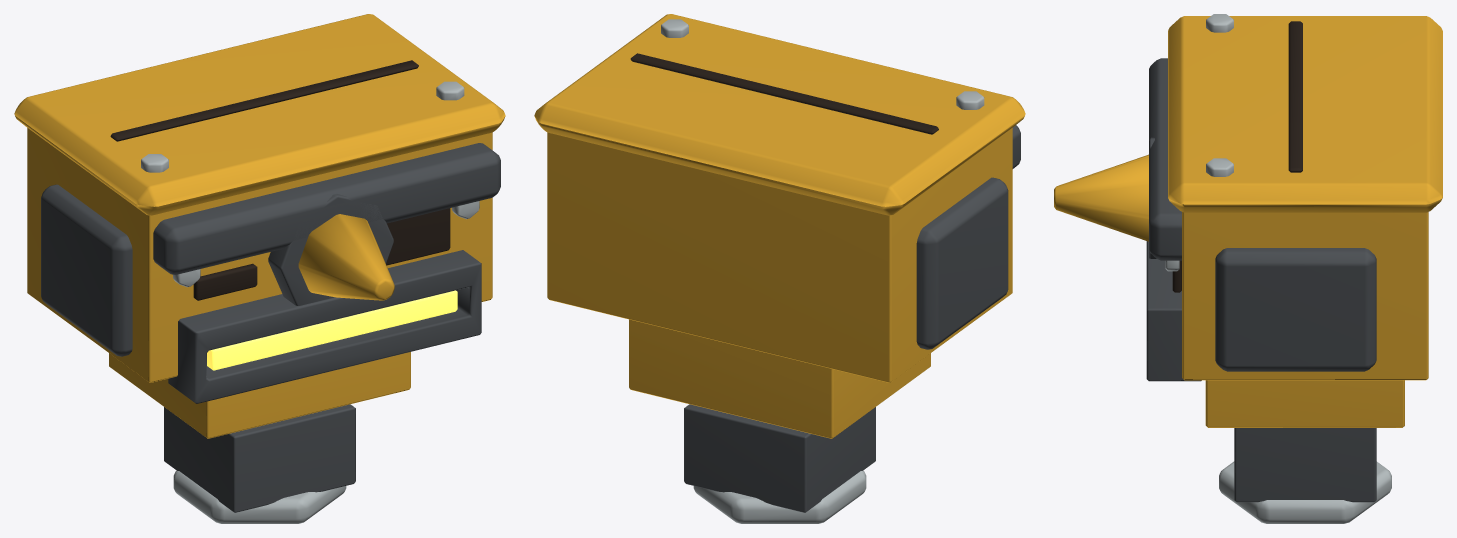
The model's file is grumble_co_anvil_cowl.glb.
The picture shows the model from 3 angles, left to right: view 1: azimuth 30°, elevation 25°; view 2: azimuth 150°, elevation 25°; view 3: azimuth 270°, elevation 25°; orthographic projection.
Parts seen in each view (by area): view 1: grumble_co_anvil_cowl; view 2: grumble_co_anvil_cowl; view 3: grumble_co_anvil_cowl.
Boxes of the visible parts, box(x1,y1,x2,y2) form: grumble_co_anvil_cowl: box(14, 14, 505, 523); grumble_co_anvil_cowl: box(534, 14, 1025, 523); grumble_co_anvil_cowl: box(1054, 14, 1442, 523).
Bounding box in the file's own units: 0.92 × 0.94 × 0.82.
Materials: 1 (1 with a texture image).
